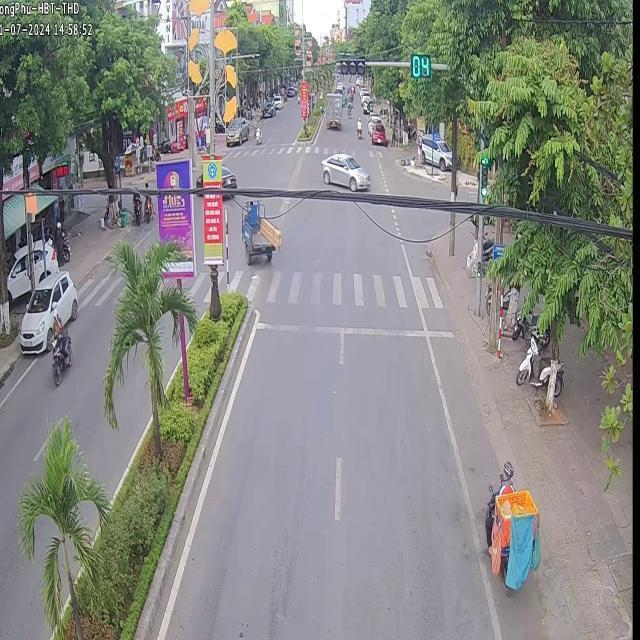car: (17, 267, 77, 351), (239, 198, 280, 262), (320, 151, 368, 189)
green_light: (411, 54, 430, 76), (479, 155, 487, 199)
stop_line: (254, 317, 454, 337)
